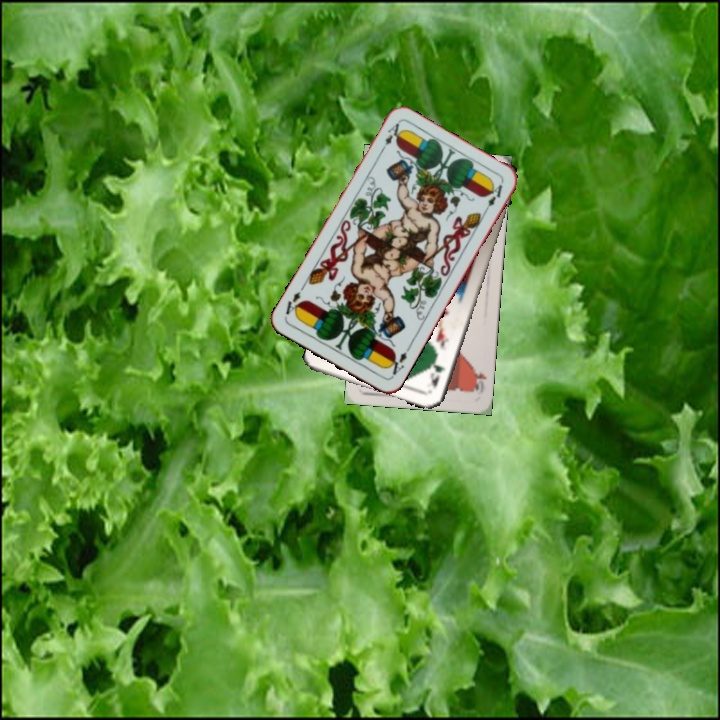EA: (384, 342, 413, 380), (376, 119, 404, 155)
GK: (427, 360, 448, 392)
HO: (469, 365, 489, 396)
